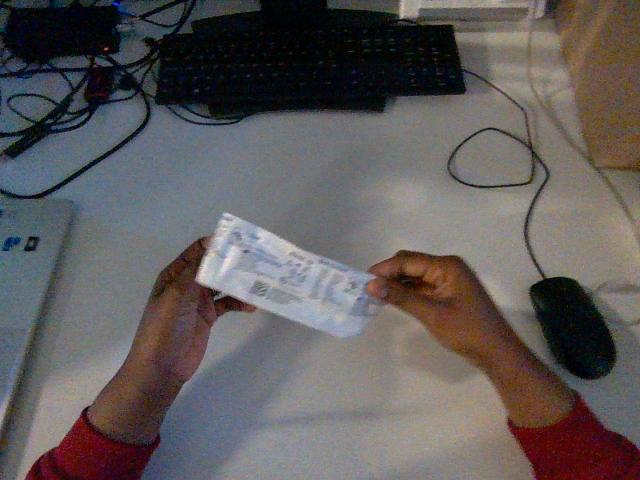syringe: (196, 213, 380, 336)
